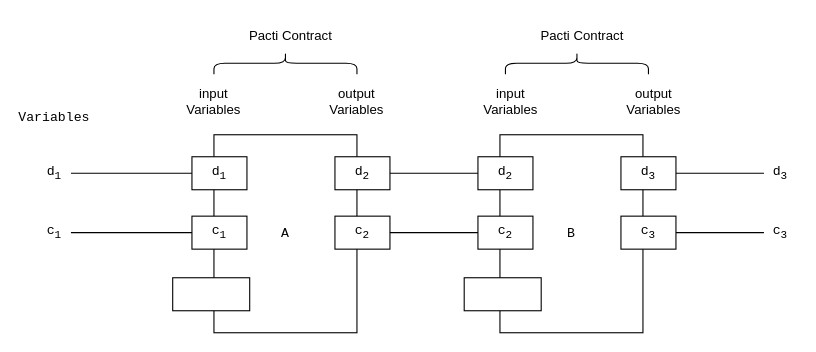
The diagram is 816 pixels wide and 352 high, and some of its shapes have lost their labels. Each missing label, with the centre of its shape:
"duration A" goes at (211,294).
"duration B" goes at (502,294).
